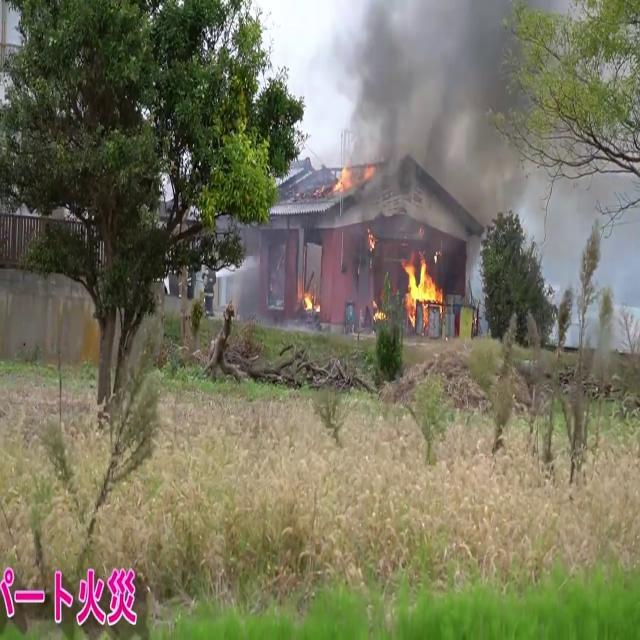Fire: (400, 249, 444, 322)
Smoke: (325, 0, 537, 244)
